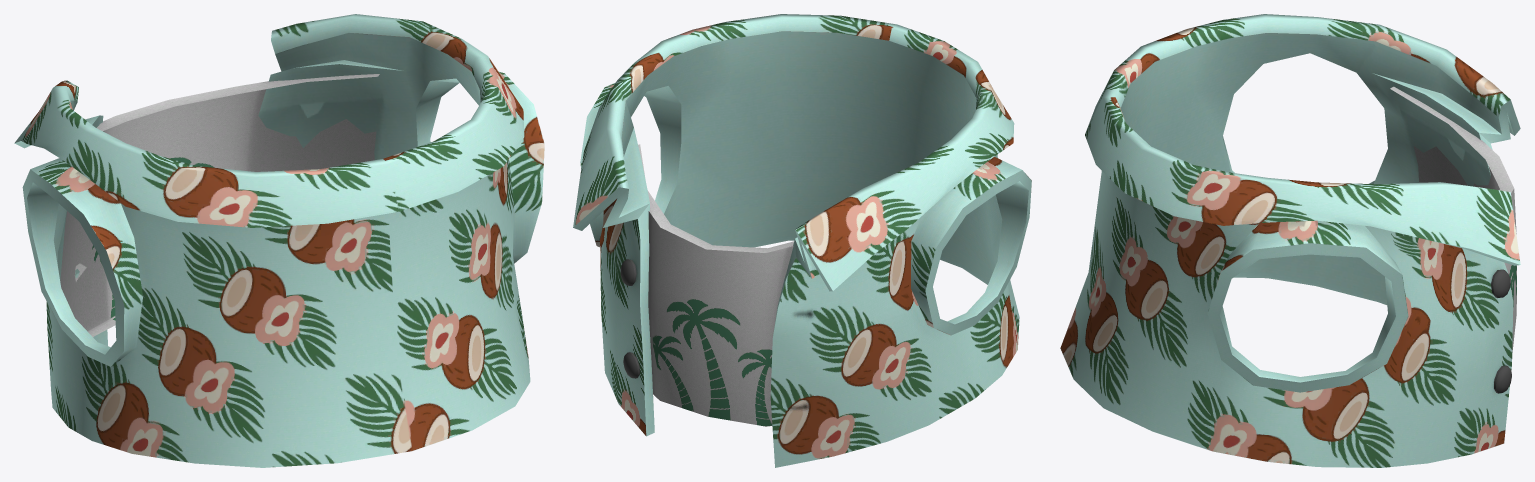
Rendered from IG_Armor_Island_Coconut.fbx.
3 renders of one model, left to right at view 1: azimuth 30°, elevation 25°; view 2: azimuth 150°, elevation 25°; view 3: azimuth 270°, elevation 25°, orthographic. The views are drawn at different scales.
Visible parts, largest first — view 1: Clothes_Armor_Island_Coconut; view 2: Clothes_Armor_Island_Coconut; view 3: Clothes_Armor_Island_Coconut.
Part boxes in pixels (left/top/right/bottom): Clothes_Armor_Island_Coconut: left=14, top=14, right=544, bottom=467; Clothes_Armor_Island_Coconut: left=573, top=14, right=1031, bottom=467; Clothes_Armor_Island_Coconut: left=1060, top=14, right=1520, bottom=467.
Bounding box in the file's own units: 0.6389 × 0.4527 × 0.604.
